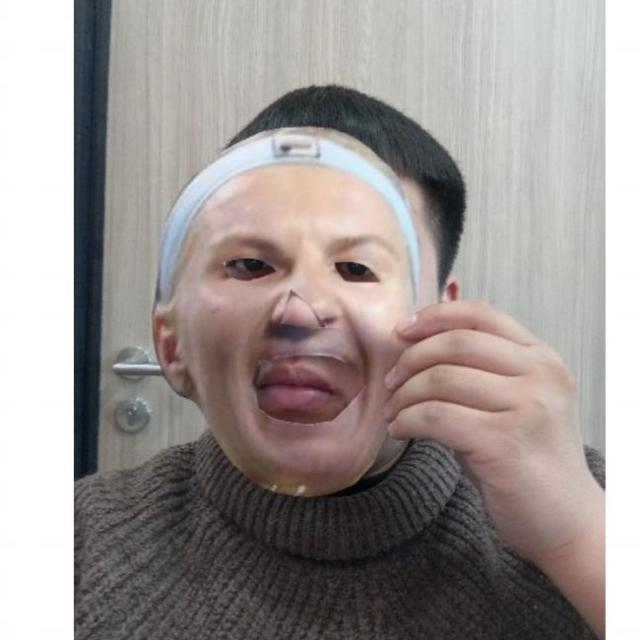mask: (148, 126, 424, 487)
